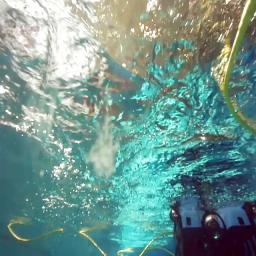front: (170, 199, 256, 256)
